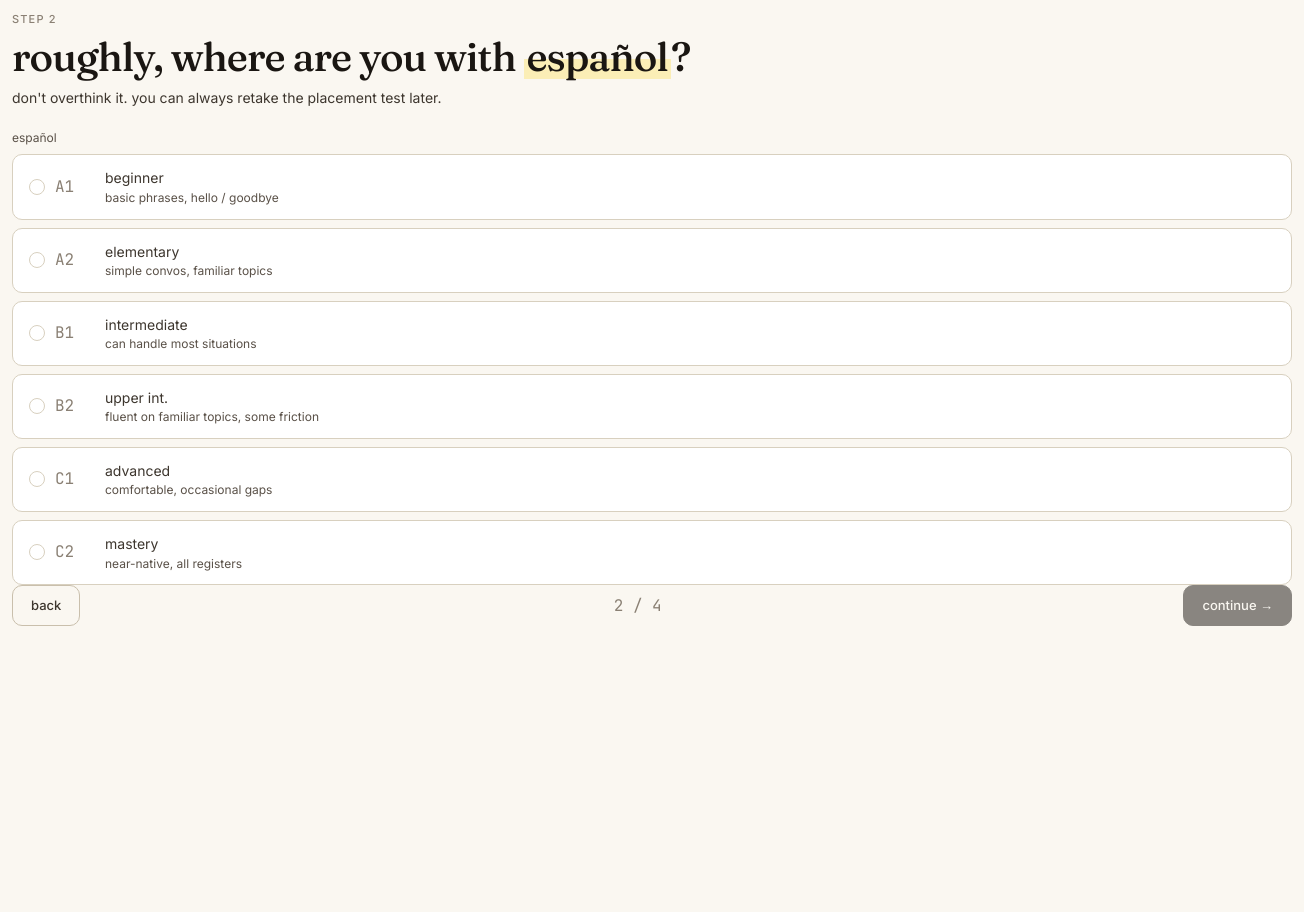
it: StepLevel › WizardFooter continue button is disabled until a CEFR level is picked
Expected: the button with test id "wizard-footer-primary" is disabled, [1183, 585, 1292, 626]
Click the radio button labelled "B2 upper int. fluent on familiar topics, some friction" at (137, 397), box [12, 374, 1292, 439]
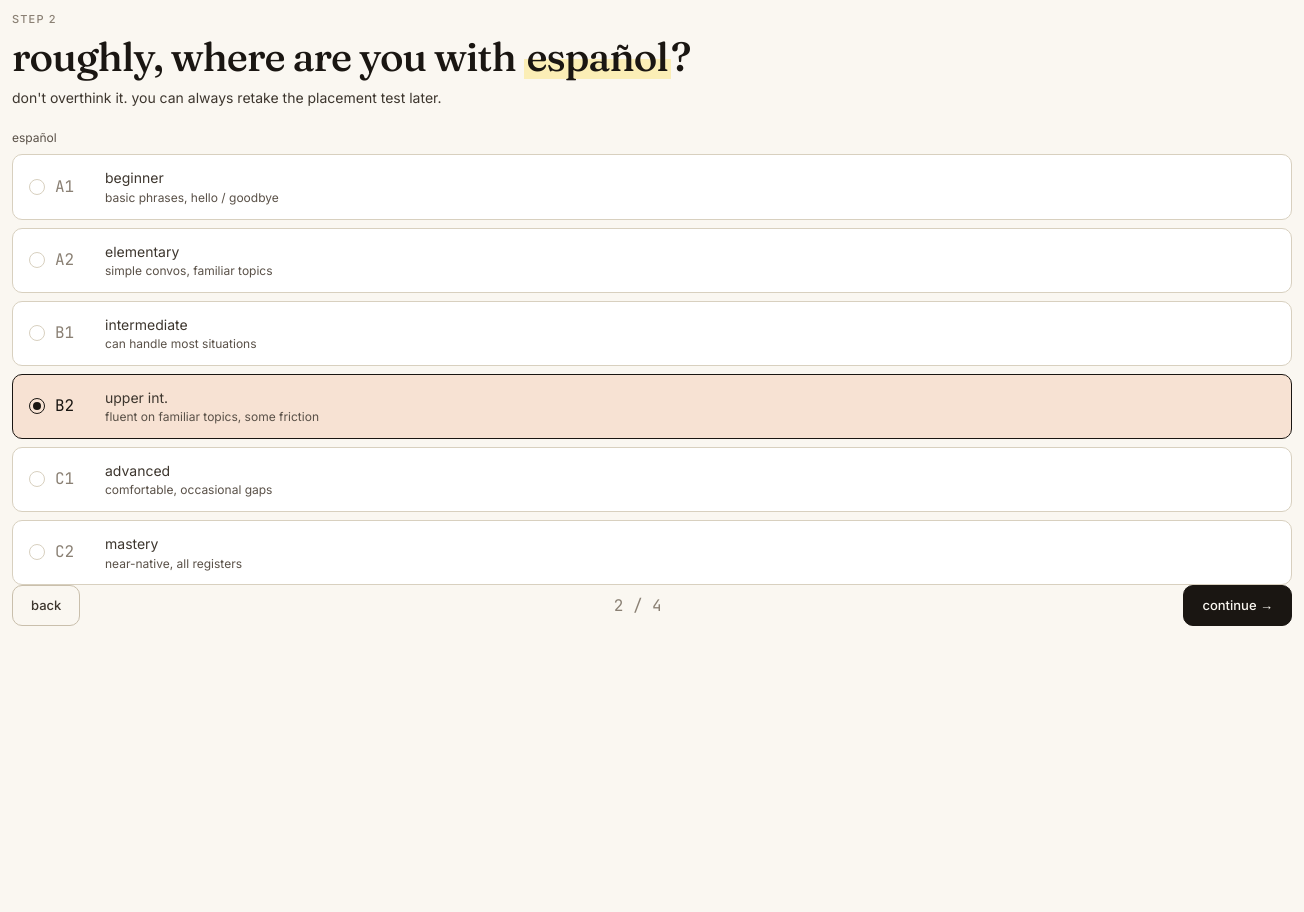
Expected: the button with test id "wizard-footer-primary" is enabled, [1183, 585, 1292, 626]
